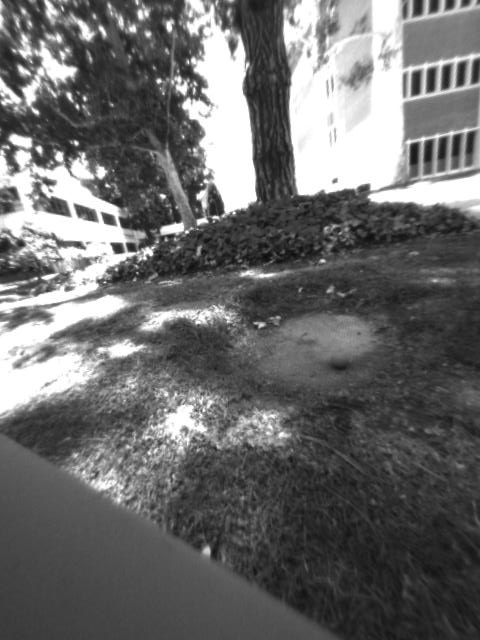dogtoy: (324, 345, 359, 377)
